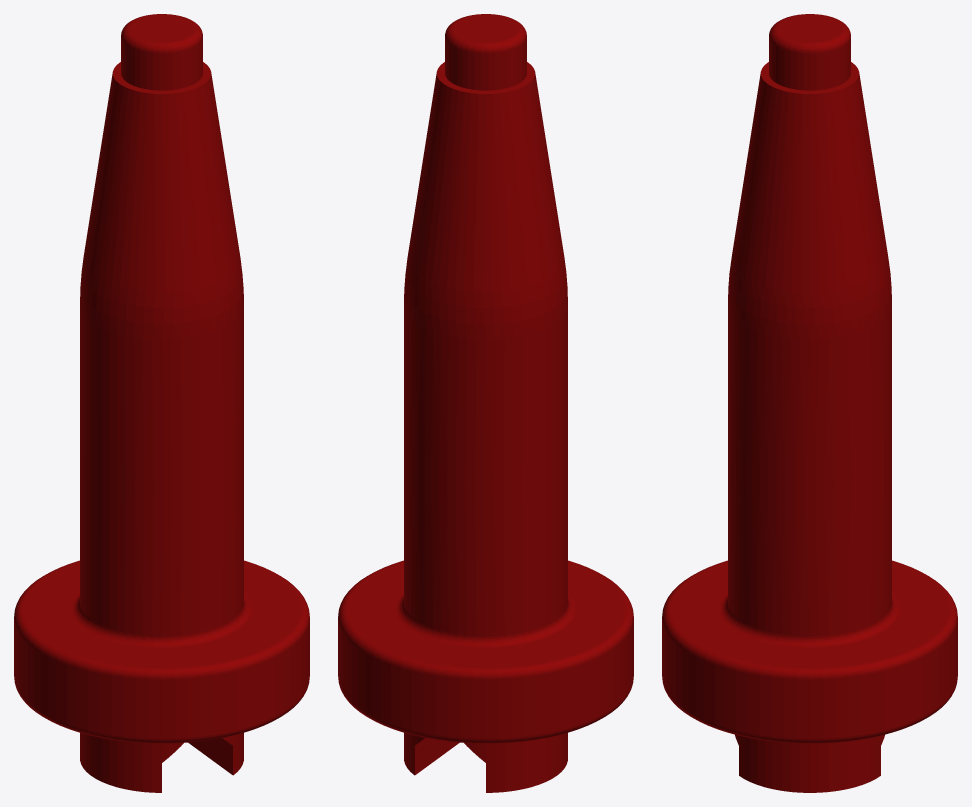
File: RedSurmark.dae
3 views of the same model, side by side, from view 1: azimuth 30°, elevation 25°; view 2: azimuth 150°, elevation 25°; view 3: azimuth 270°, elevation 25° (orthographic).
Parts seen in each view (by area): view 1: RedSurmark; view 2: RedSurmark; view 3: RedSurmark.
Part boxes in pixels (bbox=[...]): RedSurmark: bbox=[14, 14, 309, 792]; RedSurmark: bbox=[338, 14, 633, 792]; RedSurmark: bbox=[662, 14, 957, 792].
Size of the model in its own units: 457 by 457 by 1245.
